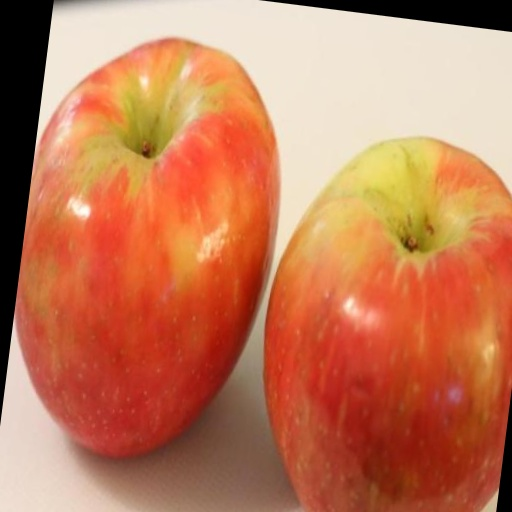fruit: (15, 39, 279, 456), (264, 138, 512, 512)
